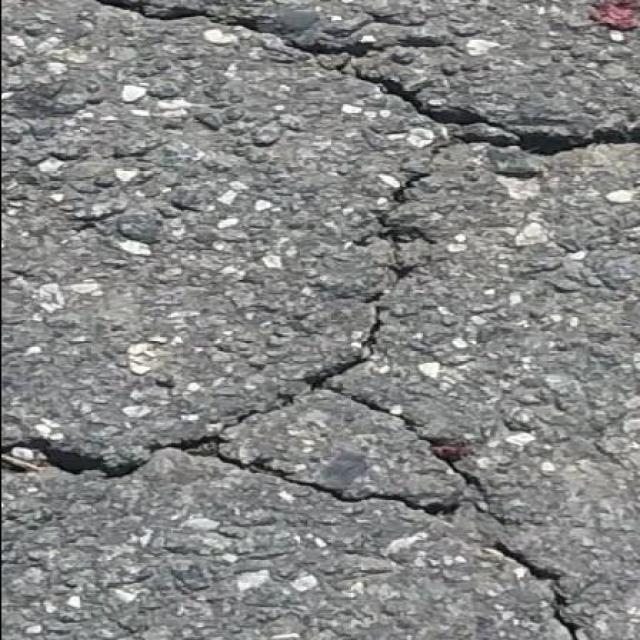Crack: (0, 156, 606, 640), (351, 64, 640, 151), (91, 0, 454, 55)
